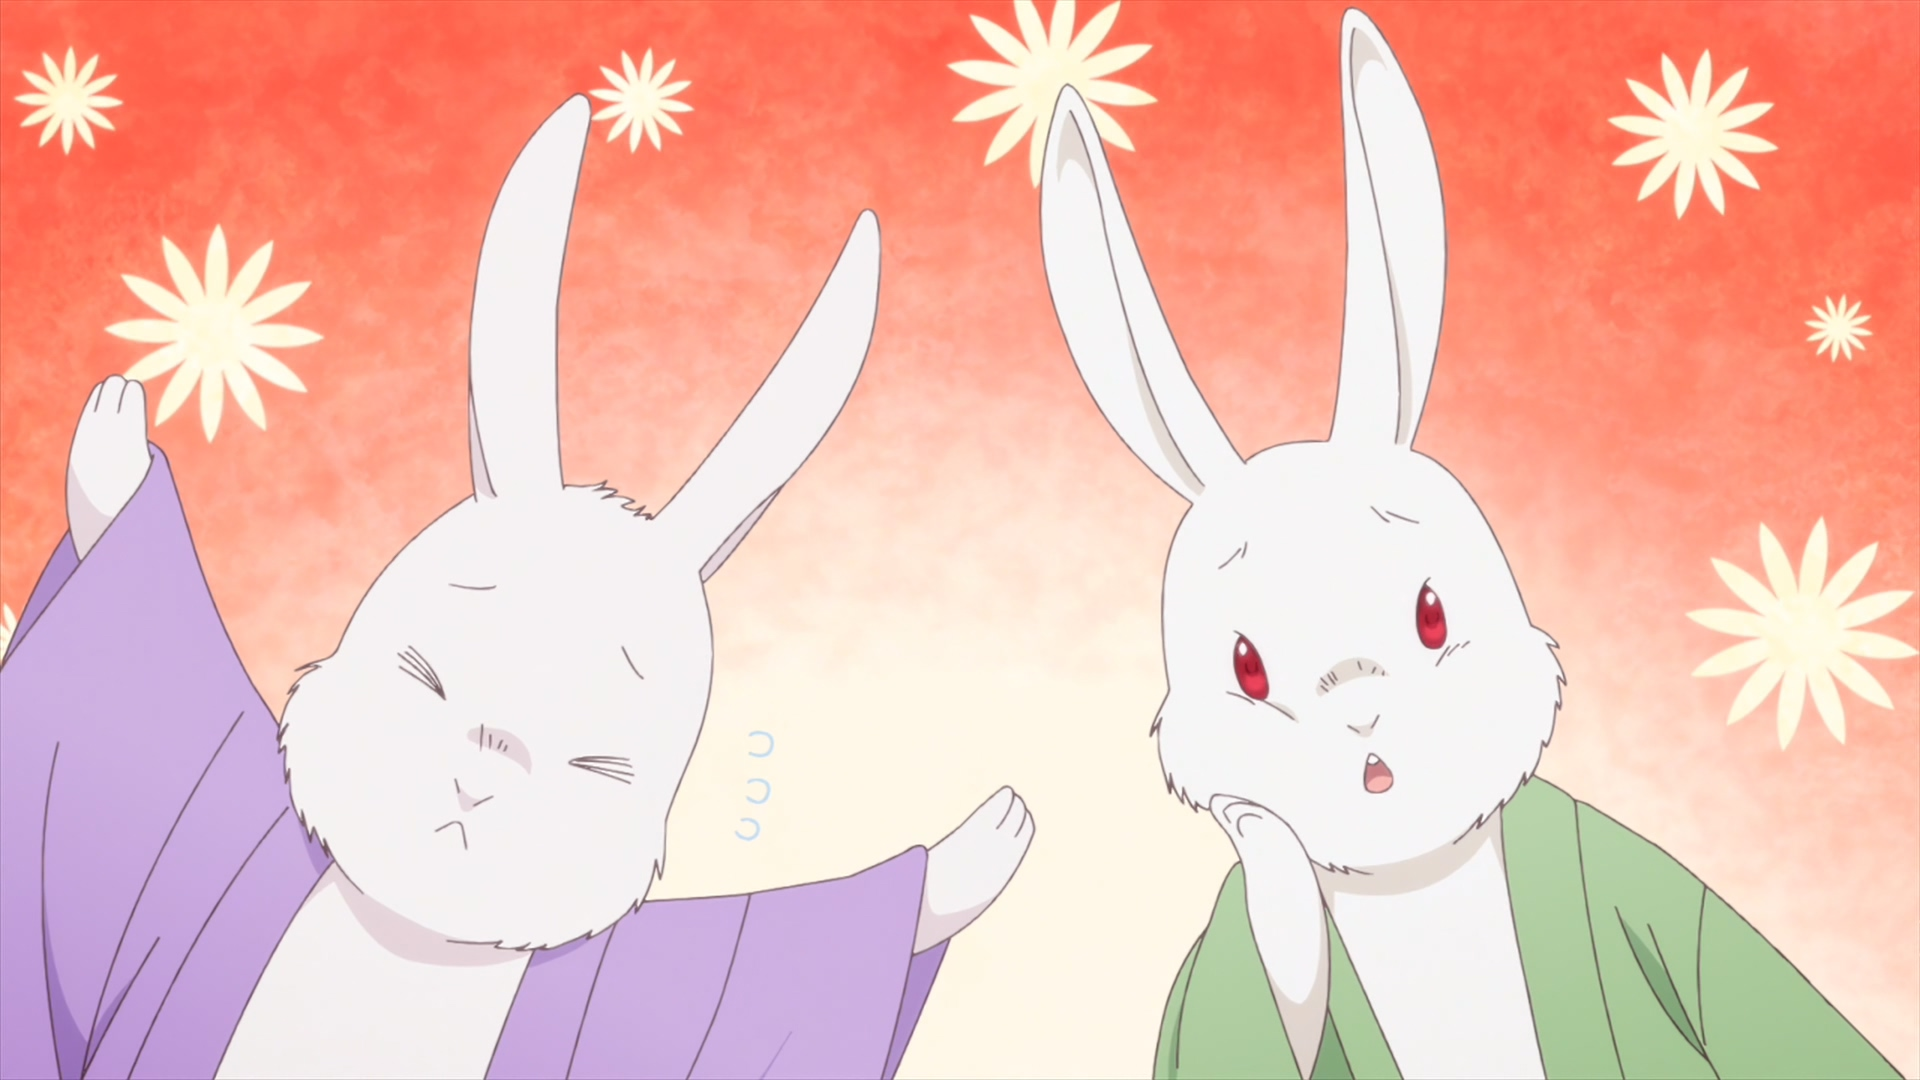其他: (1, 94, 1035, 1080), (1039, 9, 1902, 1080)
